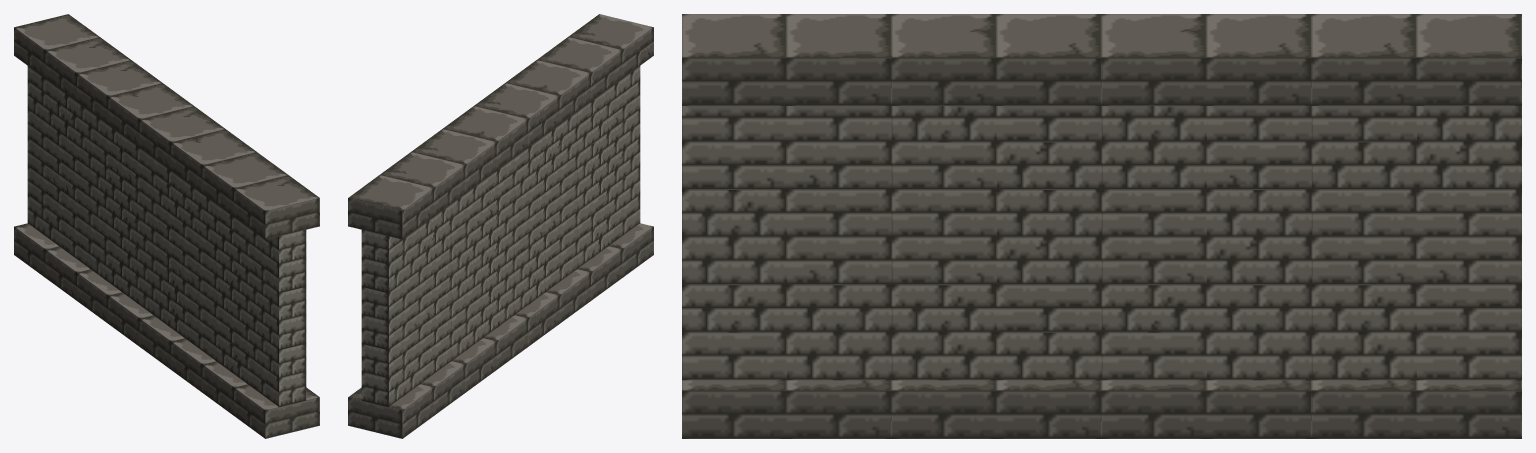
The model's file is Wall_Full_x8.fbx.
3 renders of one model, left to right at view 1: azimuth 30°, elevation 25°; view 2: azimuth 150°, elevation 25°; view 3: azimuth 270°, elevation 25°, orthographic. The views are drawn at different scales.
Parts seen in each view (by area): view 1: Wall_Full_x8; view 2: Wall_Full_x8; view 3: Wall_Full_x8.
Boxes of the visible parts, box(x1,y1,x2,y2) form: Wall_Full_x8: box(14, 14, 319, 438); Wall_Full_x8: box(348, 14, 653, 438); Wall_Full_x8: box(682, 14, 1521, 438).
Bounding box in the file's own units: 200 × 800 × 1600.
Materials: 1 (1 with a texture image).
